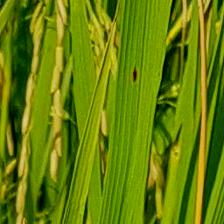0 BrownSpot: (127, 62, 144, 86)
